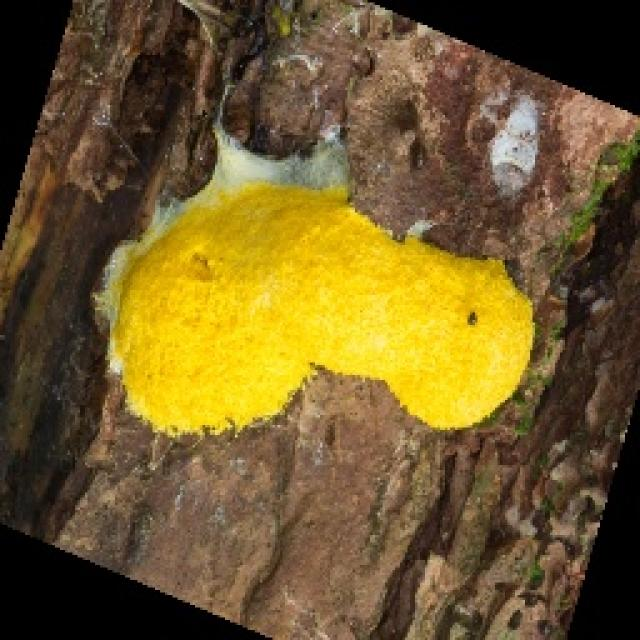Dog_vomit_slime_mold: (59, 121, 548, 454)
